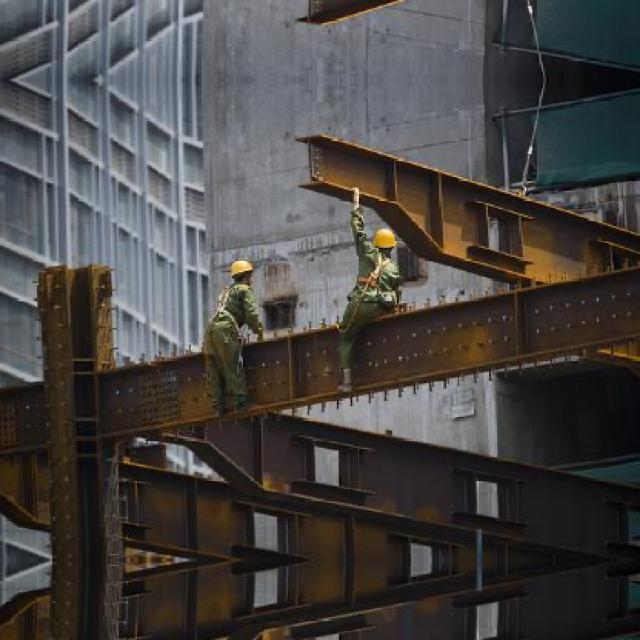helmet: (231, 259, 257, 286), (374, 230, 397, 256)
